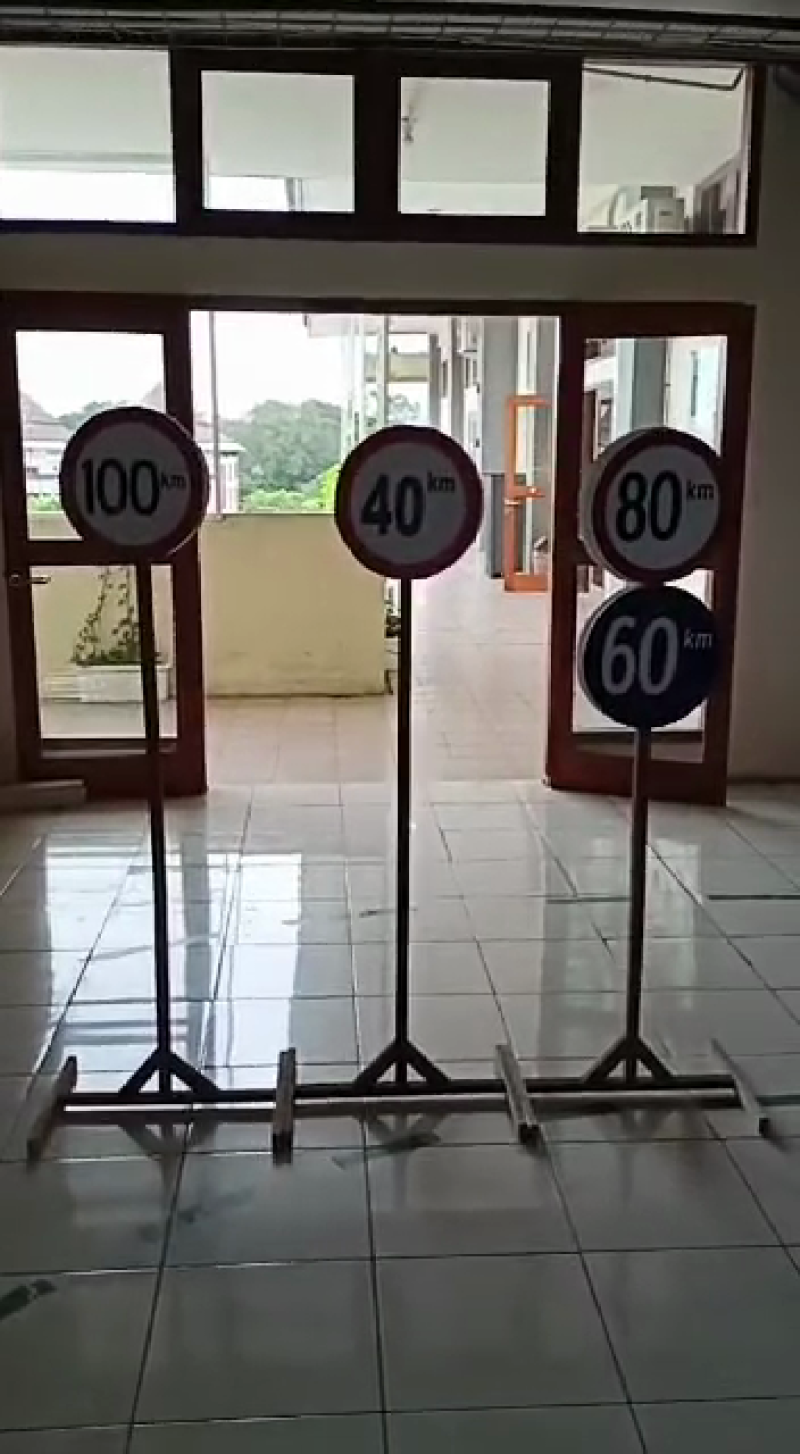batas maksimal 100kmperjam: (61, 392, 218, 574)
batas maksimal 40kmperjam: (326, 418, 487, 585)
batas maksimal 80kmperjam minimal 60kmperjam: (579, 416, 750, 744)
